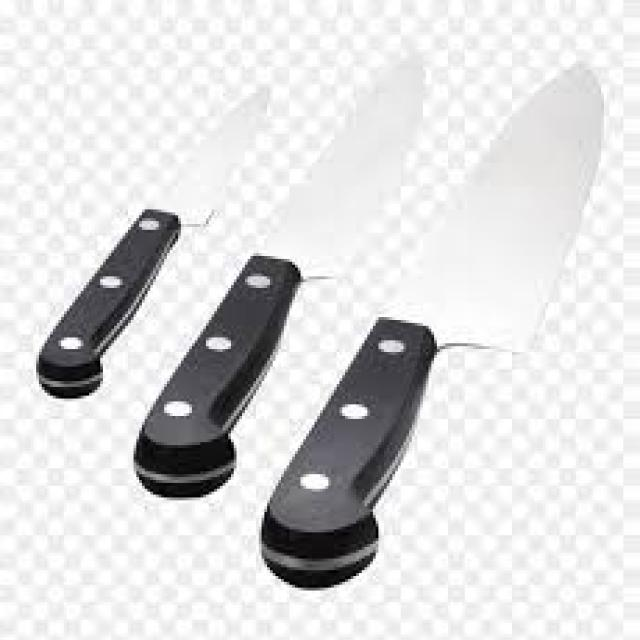Knife: (259, 58, 604, 588)
